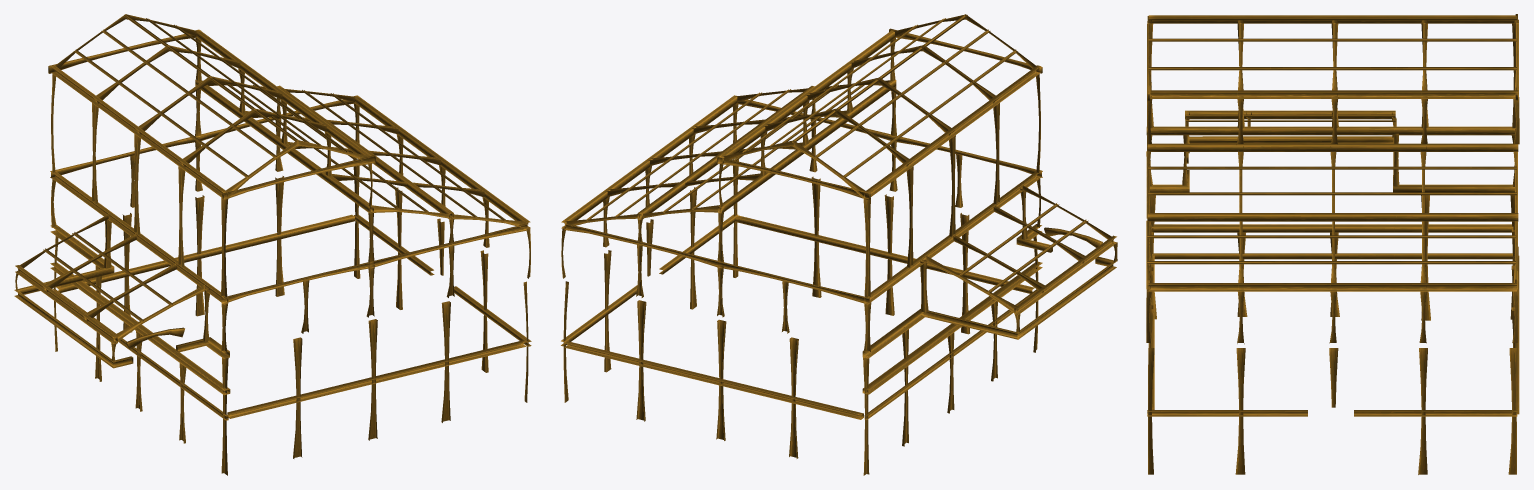
The model's file is HTOWN01_MILLINTRAFTERS.fbx.
3 views of the same model, side by side, from view 1: azimuth 30°, elevation 25°; view 2: azimuth 150°, elevation 25°; view 3: azimuth 270°, elevation 25° (orthographic). The views are drawn at different scales.
Parts seen in each view (by area): view 1: HTOWN01_MILLINTRAFTERS; view 2: HTOWN01_MILLINTRAFTERS; view 3: HTOWN01_MILLINTRAFTERS.
Part boxes in pixels (<box>): HTOWN01_MILLINTRAFTERS: <box>14,14,531,475</box>; HTOWN01_MILLINTRAFTERS: <box>561,14,1117,475</box>; HTOWN01_MILLINTRAFTERS: <box>1146,14,1519,474</box>.
Size of the model in its own units: 167140 by 126807 by 126760.
Materials: 1 (1 with a texture image).
